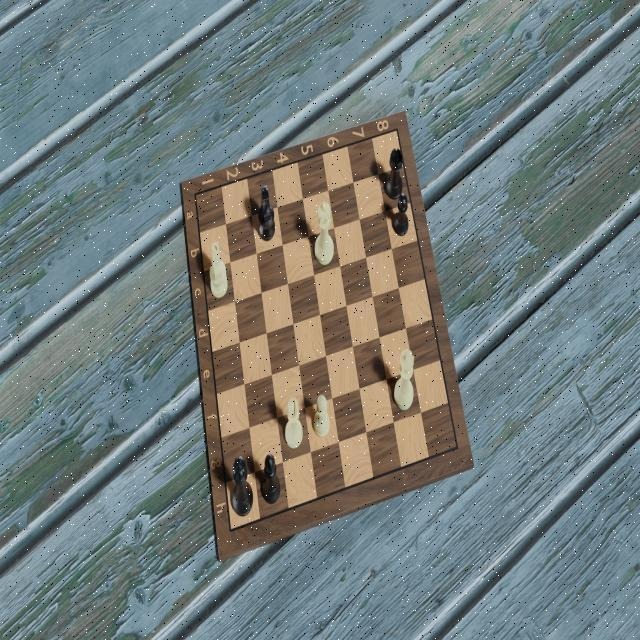black-bishop: (260, 452, 282, 508)
black-king: (232, 453, 255, 519)
black-knight: (254, 184, 278, 244)
black-pawn: (393, 194, 411, 242)
black-rook: (387, 146, 407, 202)
white-bishop: (283, 397, 305, 454)
white-king: (313, 199, 335, 269)
white-knight: (206, 240, 231, 300)
white-pawn: (311, 392, 331, 440)
white-queen: (395, 346, 418, 413)
